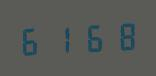eight: (108, 18, 137, 52)
one: (48, 21, 77, 55)
six: (78, 19, 107, 54), (18, 23, 47, 57)
